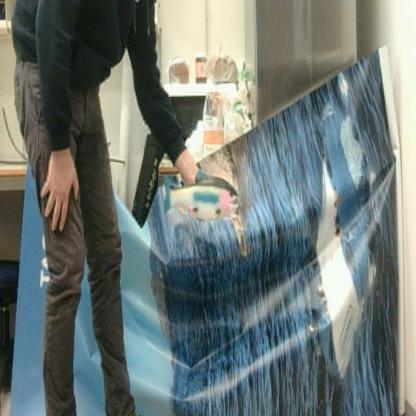rubberfish: (162, 167, 245, 219)
